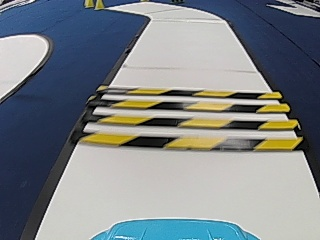bump: (107, 88, 265, 151)
